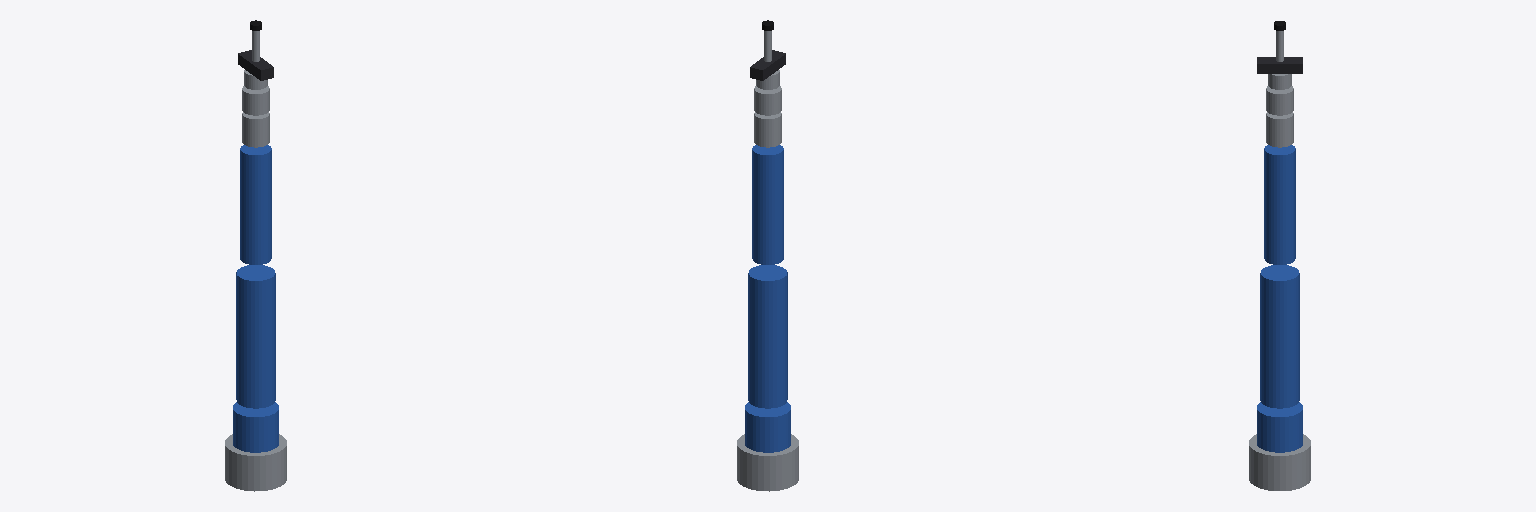
URDF robot description (arm6_suction):
<?xml version="1.0"?>
<!-- arm6_suction: the sample arm (arm6.urdf) with a suction tool in place of its fingers, for
     RFC 0020's grippers (docs/physics/actuators.md): a tube from the palm and a 30 mm cup at its
     end, evacuated by a vacuum ejector. The cup's numbers are illustrative, of the size a vacuum
     datasheet gives, not one product. arm6.overlay.yaml gives it the same motors and supply. -->
<robot name="arm6_suction">
  <material name="grey"><color rgba="0.6 0.62 0.65 1"/></material>
  <material name="blue"><color rgba="0.22 0.42 0.72 1"/></material>
  <material name="dark"><color rgba="0.2 0.2 0.22 1"/></material>

  <link name="world"/>
  <joint name="world_to_base" type="fixed">
    <parent link="world"/>
    <child link="base_link"/>
  </joint>
  <link name="base_link">
    <inertial>
      <origin xyz="0 0 0.05"/>
      <mass value="4.0"/>
      <inertia ixx="0.00973333" iyy="0.00973333" izz="0.0128" ixy="0" ixz="0" iyz="0"/>
    </inertial>
    <visual>
      <origin xyz="0 0 0.05"/>
      <geometry><cylinder radius="0.08" length="0.1"/></geometry>
      <material name="grey"/>
    </visual>
    <collision>
      <origin xyz="0 0 0.05"/>
      <geometry><cylinder radius="0.08" length="0.1"/></geometry>
    </collision>
  </link>
  <link name="shoulder_link">
    <inertial>
      <origin xyz="0 0 0.05"/>
      <mass value="3.0"/>
      <inertia ixx="0.0052" iyy="0.0052" izz="0.0054" ixy="0" ixz="0" iyz="0"/>
    </inertial>
    <visual>
      <origin xyz="0 0 0.05"/>
      <geometry><cylinder radius="0.06" length="0.1"/></geometry>
      <material name="blue"/>
    </visual>
    <collision>
      <origin xyz="0 0 0.05"/>
      <geometry><cylinder radius="0.06" length="0.1"/></geometry>
    </collision>
  </link>
  <link name="upper_arm_link">
    <inertial>
      <origin xyz="0 0 0.2"/>
      <mass value="4.0"/>
      <inertia ixx="0.0457" iyy="0.0457" izz="0.005" ixy="0" ixz="0" iyz="0"/>
    </inertial>
    <visual>
      <origin xyz="0 0 0.2"/>
      <geometry><cylinder radius="0.05" length="0.36"/></geometry>
      <material name="blue"/>
    </visual>
    <collision>
      <origin xyz="0 0 0.2"/>
      <geometry><cylinder radius="0.05" length="0.36"/></geometry>
    </collision>
  </link>
  <link name="forearm_link">
    <inertial>
      <origin xyz="0 0 0.175"/>
      <mass value="2.5"/>
      <inertia ixx="0.0210208" iyy="0.0210208" izz="0.002" ixy="0" ixz="0" iyz="0"/>
    </inertial>
    <visual>
      <origin xyz="0 0 0.175"/>
      <geometry><cylinder radius="0.04" length="0.31"/></geometry>
      <material name="blue"/>
    </visual>
    <collision>
      <origin xyz="0 0 0.175"/>
      <geometry><cylinder radius="0.04" length="0.31"/></geometry>
    </collision>
  </link>
  <link name="wrist_1_link">
    <inertial>
      <origin xyz="0 0 0.04"/>
      <mass value="1.0"/>
      <inertia ixx="0.000839583" iyy="0.000839583" izz="0.0006125" ixy="0" ixz="0" iyz="0"/>
    </inertial>
    <visual>
      <origin xyz="0 0 0.04"/>
      <geometry><cylinder radius="0.035" length="0.08"/></geometry>
      <material name="grey"/>
    </visual>
    <collision>
      <origin xyz="0 0 0.04"/>
      <geometry><cylinder radius="0.035" length="0.08"/></geometry>
    </collision>
  </link>
  <link name="wrist_2_link">
    <inertial>
      <origin xyz="0 0 0.04"/>
      <mass value="0.8"/>
      <inertia ixx="0.000485" iyy="0.000485" izz="0.00049" ixy="0" ixz="0" iyz="0"/>
    </inertial>
    <visual>
      <origin xyz="0 0 0.04"/>
      <geometry><cylinder radius="0.035" length="0.06"/></geometry>
      <material name="grey"/>
    </visual>
    <collision>
      <origin xyz="0 0 0.04"/>
      <geometry><cylinder radius="0.035" length="0.06"/></geometry>
    </collision>
  </link>
  <link name="wrist_3_link">
    <inertial>
      <origin xyz="0 0 0.02"/>
      <mass value="0.5"/>
      <inertia ixx="0.000179167" iyy="0.000179167" izz="0.000225" ixy="0" ixz="0" iyz="0"/>
    </inertial>
    <visual>
      <origin xyz="0 0 0.02"/>
      <geometry><cylinder radius="0.03" length="0.04"/></geometry>
      <material name="grey"/>
    </visual>
    <collision>
      <origin xyz="0 0 0.02"/>
      <geometry><cylinder radius="0.03" length="0.04"/></geometry>
    </collision>
  </link>
  <link name="palm_link">
    <inertial>
      <origin xyz="0 0 0.015"/>
      <mass value="0.3"/>
      <inertia ixx="0.0003825" iyy="6.25e-05" izz="0.0004" ixy="0" ixz="0" iyz="0"/>
    </inertial>
    <visual>
      <origin xyz="0 0 0.015"/>
      <geometry><box size="0.04 0.12 0.03"/></geometry>
      <material name="dark"/>
    </visual>
    <collision>
      <origin xyz="0 0 0.015"/>
      <geometry><box size="0.04 0.12 0.03"/></geometry>
    </collision>
  </link>
  <joint name="shoulder_pan_joint" type="revolute">
    <parent link="base_link"/>
    <child link="shoulder_link"/>
    <origin xyz="0 0 0.1"/>
    <axis xyz="0 0 1"/>
    <limit lower="-3.14159265" upper="3.14159265" effort="150" velocity="2.0"/>
  </joint>
  <joint name="shoulder_lift_joint" type="revolute">
    <parent link="shoulder_link"/>
    <child link="upper_arm_link"/>
    <origin xyz="0 0 0.1"/>
    <axis xyz="0 1 0"/>
    <limit lower="-2.0" upper="2.0" effort="150" velocity="2.0"/>
  </joint>
  <joint name="elbow_joint" type="revolute">
    <parent link="upper_arm_link"/>
    <child link="forearm_link"/>
    <origin xyz="0 0 0.4"/>
    <axis xyz="0 1 0"/>
    <limit lower="-2.6" upper="2.6" effort="150" velocity="2.5"/>
  </joint>
  <joint name="wrist_1_joint" type="revolute">
    <parent link="forearm_link"/>
    <child link="wrist_1_link"/>
    <origin xyz="0 0 0.35"/>
    <axis xyz="0 0 1"/>
    <limit lower="-3.14159265" upper="3.14159265" effort="30" velocity="3.0"/>
  </joint>
  <joint name="wrist_2_joint" type="revolute">
    <parent link="wrist_1_link"/>
    <child link="wrist_2_link"/>
    <origin xyz="0 0 0.08"/>
    <axis xyz="0 1 0"/>
    <limit lower="-2.0" upper="2.0" effort="30" velocity="3.0"/>
  </joint>
  <joint name="wrist_3_joint" type="revolute">
    <parent link="wrist_2_link"/>
    <child link="wrist_3_link"/>
    <origin xyz="0 0 0.08"/>
    <axis xyz="0 0 1"/>
    <limit lower="-3.14159265" upper="3.14159265" effort="30" velocity="3.0"/>
  </joint>
  <joint name="wrist_3_to_palm" type="fixed">
    <parent link="wrist_3_link"/>
    <child link="palm_link"/>
    <origin xyz="0 0 0.04"/>
  </joint>

  <!-- The suction tool: a tube along the palm's z, and the cup at its end. The cup link's origin
       is the centre of its lip; its bellows reach 15 mm back from it. -->
  <material name="rubber"><color rgba="0.12 0.12 0.13 1"/></material>
  <link name="suction_tube">
    <inertial>
      <origin xyz="0 0 0.045"/>
      <mass value="0.08"/>
      <inertia ixx="5.6e-05" iyy="5.6e-05" izz="4.0e-06" ixy="0" ixz="0" iyz="0"/>
    </inertial>
    <visual>
      <origin xyz="0 0 0.045"/>
      <geometry><cylinder radius="0.01" length="0.09"/></geometry>
      <material name="grey"/>
    </visual>
    <collision>
      <origin xyz="0 0 0.045"/>
      <geometry><cylinder radius="0.01" length="0.09"/></geometry>
    </collision>
  </link>
  <joint name="palm_to_suction_tube" type="fixed">
    <parent link="palm_link"/>
    <child link="suction_tube"/>
    <origin xyz="0 0 0.03"/>
  </joint>
  <link name="suction_cup">
    <inertial>
      <origin xyz="0 0 -0.0075"/>
      <mass value="0.02"/>
      <inertia ixx="1.6e-06" iyy="1.6e-06" izz="2.6e-06" ixy="0" ixz="0" iyz="0"/>
    </inertial>
    <visual>
      <origin xyz="0 0 -0.0075"/>
      <geometry><cylinder radius="0.016" length="0.015"/></geometry>
      <material name="rubber"/>
    </visual>
    <!-- Its lip collides as a square of the cup's width, so that the engine holds a part on it by
         contacts at the corners and not on one point of a round edge. -->
    <collision>
      <origin xyz="0 0 -0.0075"/>
      <geometry><box size="0.03 0.03 0.015"/></geometry>
    </collision>
  </link>
  <joint name="tube_to_suction_cup" type="fixed">
    <parent link="suction_tube"/>
    <child link="suction_cup"/>
    <origin xyz="0 0 0.105"/>
  </joint>

  <!-- RFC 0020: a 30 mm cup (707 mm²) on 10 mL of hose, an ejector of 0.1 g/s (about 5 L/min of
       free air) down to 20 kPa absolute: 57.5 N at full vacuum, reached with a time constant of
       0.1 s. act/suction_cup/command; ROS /suction_cup/command, /suction_cup/state. -->
  <gazebo reference="suction_cup">
    <suction_cup diameter="0.03" volume="1.0e-5" flow="1.0e-4" ultimate_pressure="20000"
                 axis="0 0 1"/>
  </gazebo>

  <!-- Wrist camera on the palm, looking past the suction tube (along the palm's z). The sensor
       frame looks along its x (the Gazebo convention); ROS gets wrist_camera_optical too. -->
  <gazebo reference="palm_link">
    <sensor name="wrist_camera" type="camera">
      <pose>0.03 0 0.02 0 -1.5707963 0</pose>
      <update_rate>15</update_rate>
      <camera>
        <horizontal_fov>1.2</horizontal_fov>
        <image><width>640</width><height>480</height></image>
        <clip><near>0.02</near><far>5</far></clip>
      </camera>
    </sensor>
  </gazebo>

  <!-- Position servos in the drives (LagrangeSystem): joint_trajectory_controller sends
       positions; the gains turn them into torque commands for the electrical domain. -->
  <ros2_control name="LagrangeSystem" type="system">
    <hardware>
      <plugin>lagrange_ros2_control/LagrangeSystem</plugin>
    </hardware>
    <joint name="shoulder_pan_joint">
      <command_interface name="position"/>
      <command_interface name="effort"/>
      <state_interface name="position"/>
      <state_interface name="velocity"/>
      <param name="position_p">1500</param>
      <param name="position_i">3000</param>
      <param name="position_d">80</param>
    </joint>
    <joint name="shoulder_lift_joint">
      <command_interface name="position"/>
      <command_interface name="effort"/>
      <state_interface name="position"/>
      <state_interface name="velocity"/>
      <param name="position_p">2000</param>
      <param name="position_i">4000</param>
      <param name="position_d">100</param>
    </joint>
    <joint name="elbow_joint">
      <command_interface name="position"/>
      <command_interface name="effort"/>
      <state_interface name="position"/>
      <state_interface name="velocity"/>
      <param name="position_p">1500</param>
      <param name="position_i">3000</param>
      <param name="position_d">70</param>
    </joint>
    <joint name="wrist_1_joint">
      <command_interface name="position"/>
      <command_interface name="effort"/>
      <state_interface name="position"/>
      <state_interface name="velocity"/>
      <param name="position_p">150</param>
      <param name="position_i">300</param>
      <param name="position_d">4</param>
    </joint>
    <joint name="wrist_2_joint">
      <command_interface name="position"/>
      <command_interface name="effort"/>
      <state_interface name="position"/>
      <state_interface name="velocity"/>
      <param name="position_p">150</param>
      <param name="position_i">300</param>
      <param name="position_d">4</param>
    </joint>
    <joint name="wrist_3_joint">
      <command_interface name="position"/>
      <command_interface name="effort"/>
      <state_interface name="position"/>
      <state_interface name="velocity"/>
      <param name="position_p">100</param>
      <param name="position_i">200</param>
      <param name="position_d">3</param>
    </joint>
  </ros2_control>
</robot>

--- Facts derived from the render (not from the file) ---
3 views of the same robot in one strip: view 1: azimuth 30°, elevation 25°; view 2: azimuth 150°, elevation 25°; view 3: azimuth 270°, elevation 25° (orthographic).
Robot: arm6_suction — 11 links, 10 joints (6 revolute, 4 fixed); root link world; default pose: all joints at 0.
Links seen in each view (by area): view 1: upper_arm_link, forearm_link, base_link, shoulder_link, wrist_1_link, wrist_2_link, palm_link; view 2: upper_arm_link, forearm_link, base_link, shoulder_link, wrist_1_link, wrist_2_link, palm_link; view 3: upper_arm_link, forearm_link, base_link, shoulder_link, wrist_1_link, palm_link, wrist_2_link.
Link boxes in pixels (x1,y1,x2,y2): upper_arm_link: [236, 265, 275, 408]; forearm_link: [240, 145, 271, 264]; base_link: [225, 434, 286, 491]; shoulder_link: [233, 402, 278, 452]; wrist_1_link: [242, 112, 269, 147]; wrist_2_link: [242, 86, 269, 115]; palm_link: [238, 50, 273, 80]; upper_arm_link: [748, 265, 787, 408]; forearm_link: [752, 145, 783, 264]; base_link: [737, 434, 798, 491]; shoulder_link: [745, 402, 790, 452]; wrist_1_link: [754, 112, 781, 147]; wrist_2_link: [754, 86, 781, 115]; palm_link: [750, 50, 785, 80]; upper_arm_link: [1260, 265, 1299, 408]; forearm_link: [1264, 145, 1295, 264]; base_link: [1249, 434, 1310, 490]; shoulder_link: [1257, 402, 1302, 452]; wrist_1_link: [1266, 112, 1293, 147]; palm_link: [1257, 57, 1302, 73]; wrist_2_link: [1266, 86, 1293, 115].
Bounding box of the posed robot: 0.16 × 0.16 × 1.28 m (x, y, z).
Geometry: primitives only (box / cylinder / sphere), no mesh files.
